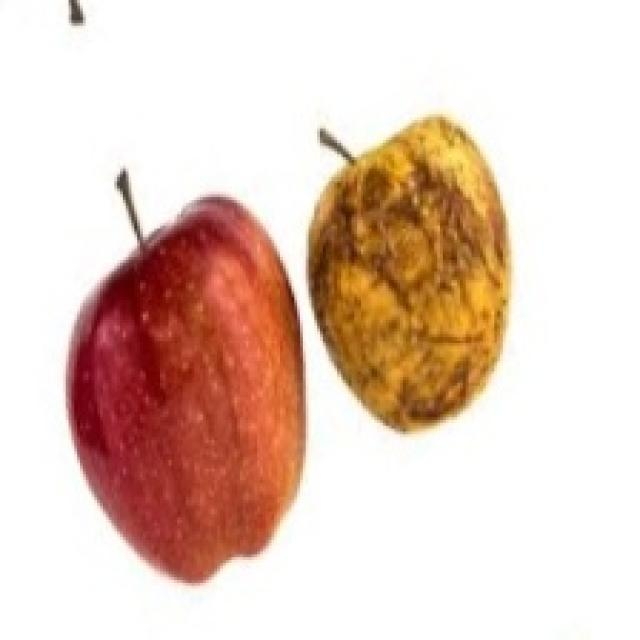rotten_apple: (310, 120, 508, 418)
